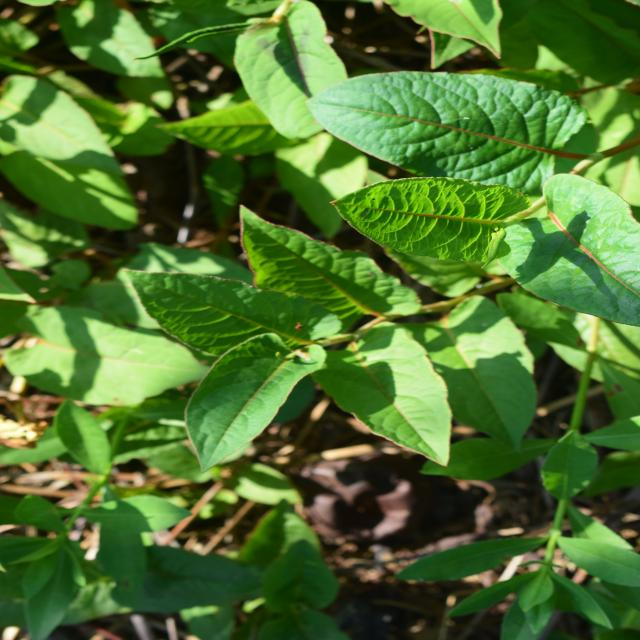Chinese_knotweed: (183, 121, 411, 538), (308, 342, 570, 618)
